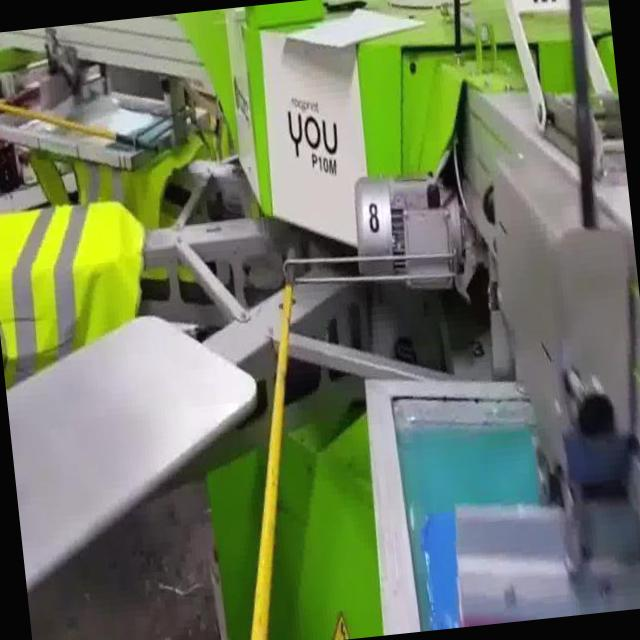vest: (0, 197, 161, 376)
